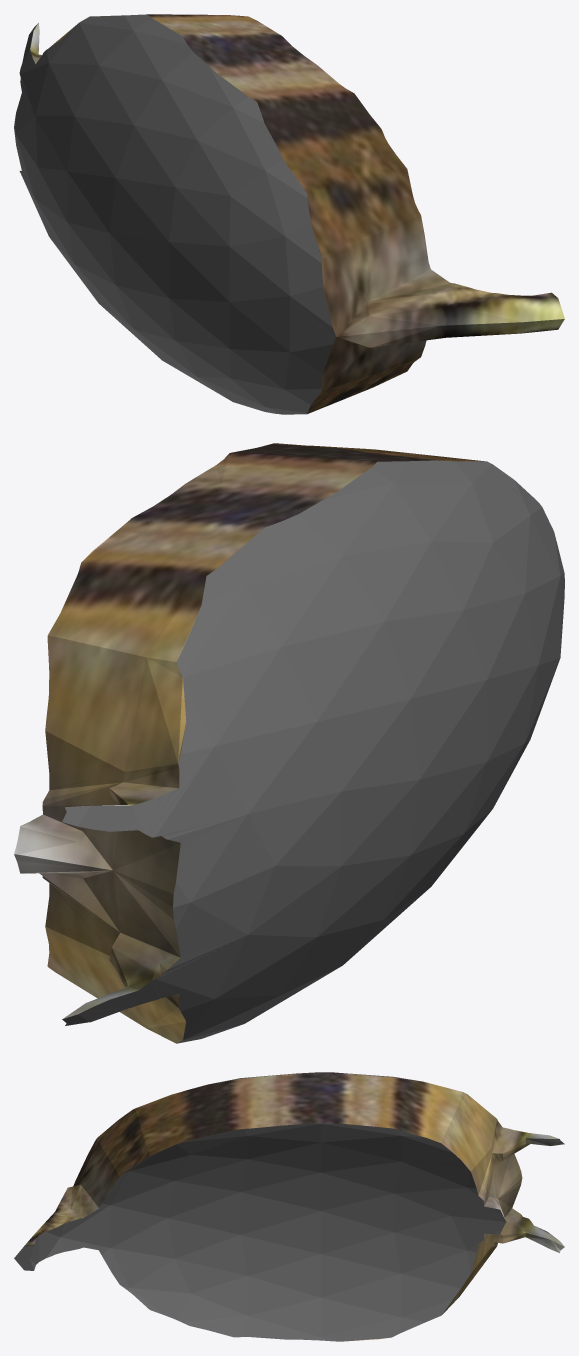
The picture shows the model from 3 angles, top to bottom: view 1: azimuth 30°, elevation 25°; view 2: azimuth 150°, elevation 25°; view 3: azimuth 270°, elevation 25°; orthographic projection. The views are drawn at different scales.
Parts seen in each view (by area): view 1: link_7_visual; view 2: link_7_visual; view 3: link_7_visual.
Boxes of the visible parts, left/top/right/bottom form: link_7_visual: left=14, top=14, right=564, bottom=414; link_7_visual: left=14, top=443, right=564, bottom=1043; link_7_visual: left=14, top=1072, right=564, bottom=1341.
Bounding box in the file's own units: 0.00155 × 0.0019 × 0.00382.
1 material, 1 textured.
